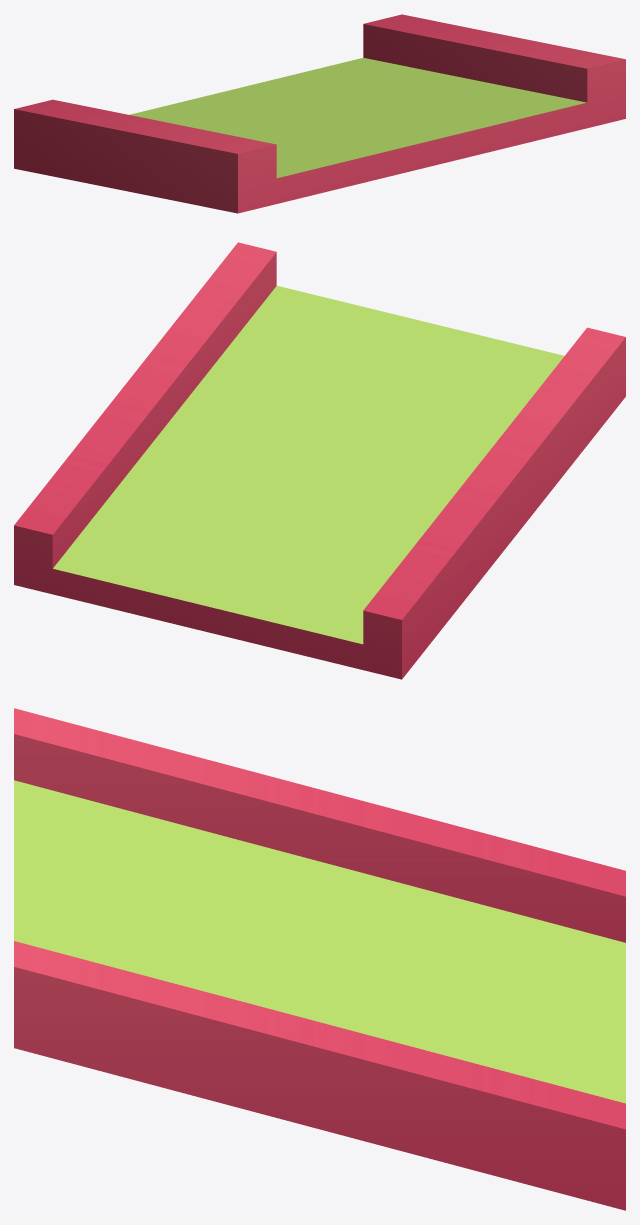
File: ramp-b.fbx
3 views of the same model, one above another, from view 1: azimuth 30°, elevation 25°; view 2: azimuth 150°, elevation 25°; view 3: azimuth 270°, elevation 25° (orthographic). The views are drawn at different scales.
Parts seen in each view (by area): view 1: ramp_b; view 2: ramp_b; view 3: ramp_b.
Boxes of the visible parts, x1,y1,x2,y2 form: ramp_b: (14,14,625,213); ramp_b: (14,242,625,679); ramp_b: (14,708,625,1210).
Size of the model in its own units: 99.99 by 44 by 99.99.
Materials: 1 (1 with a texture image).
